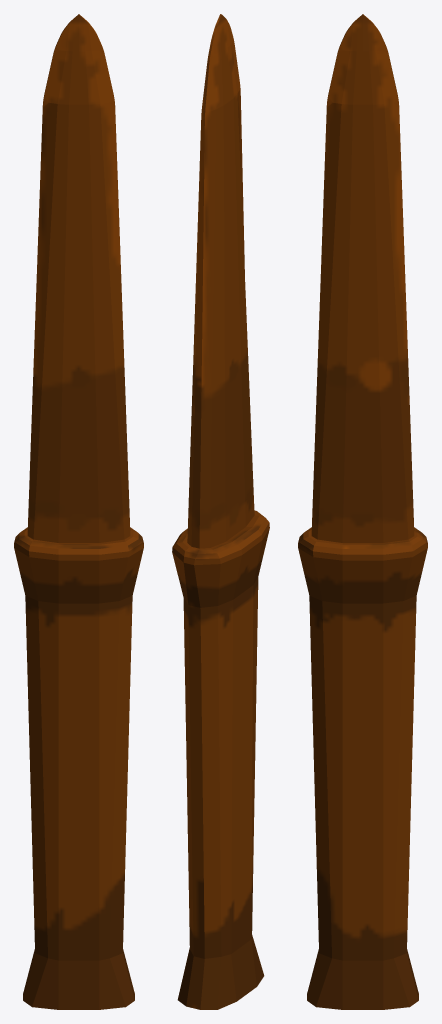
The model's file is woodenKnife.obj.
3 views of the same model, side by side, from view 1: azimuth 90°, elevation 25°; view 2: azimuth 150°, elevation 25°; view 3: azimuth 270°, elevation 25° (orthographic).
Parts seen in each view (by area): view 1: Cube; view 2: Cube; view 3: Cube.
Part boxes in pixels (box(x1,y1,x2,y2)): Cube: box(14, 14, 143, 1009); Cube: box(172, 14, 269, 1009); Cube: box(298, 14, 427, 1009).
Bounding box in the file's own units: 0.1425 × 2.12 × 0.254.
Materials: 1 (1 with a texture image).
